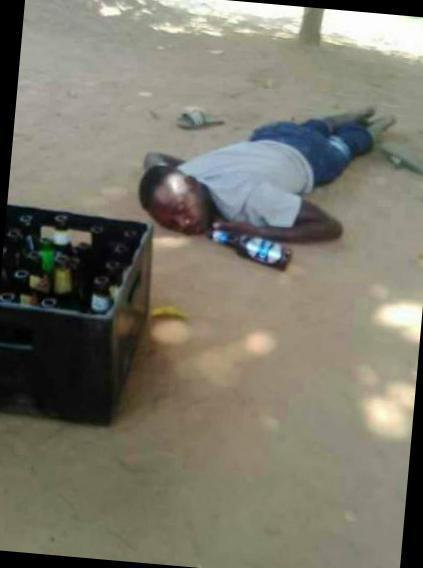Drunk: (140, 167, 212, 234)
